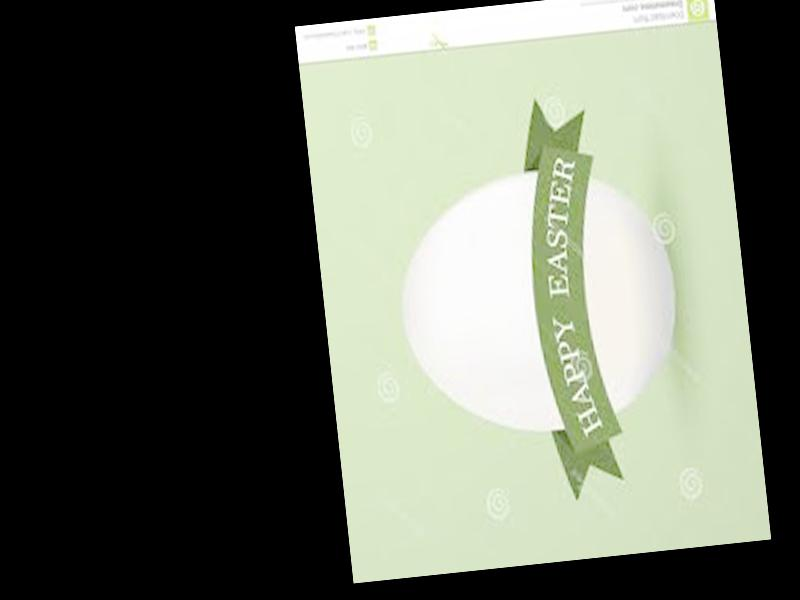Eggs: (389, 157, 686, 441)
